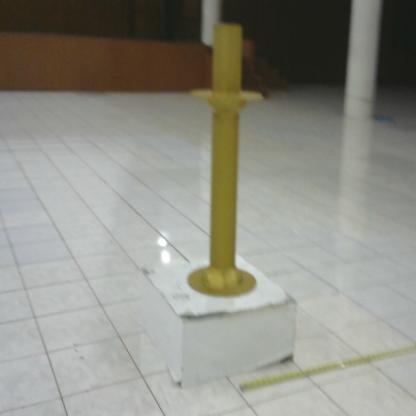pole: (180, 14, 267, 299)
